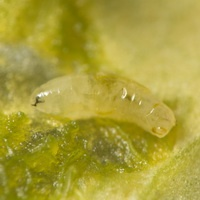insect: (32, 73, 174, 137)
